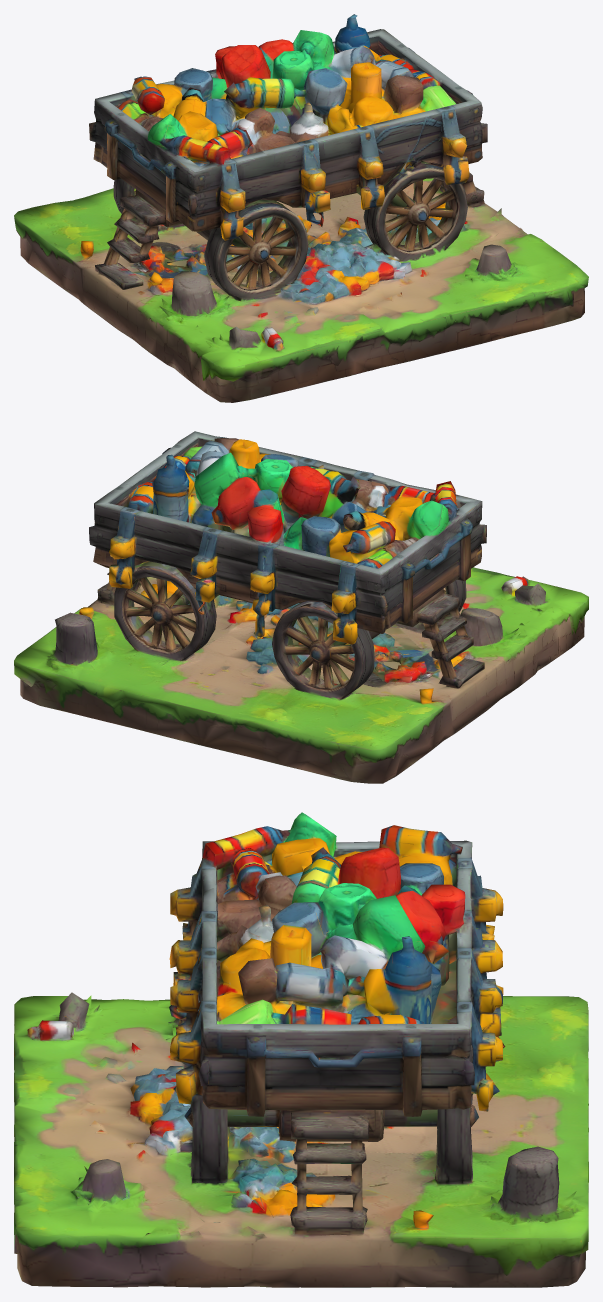
File: siege.glb
3 views of the same model, one above another, from view 1: azimuth 30°, elevation 25°; view 2: azimuth 150°, elevation 25°; view 3: azimuth 270°, elevation 25° (orthographic). The views are drawn at different scales.
Visible parts, largest first — view 1: Mesh_0; view 2: Mesh_0; view 3: Mesh_0.
Part boxes in pixels (x1,y1,x2,y2): Mesh_0: [14, 14, 588, 402]; Mesh_0: [14, 431, 588, 783]; Mesh_0: [14, 812, 588, 1287].
Bounding box in the file's own units: 1.91 × 1.1 × 1.91.
1 material, 1 textured.
